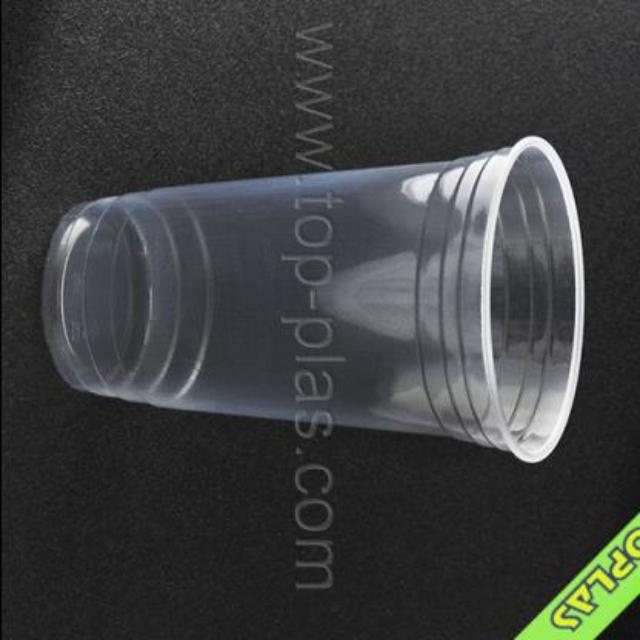plastic_box: (47, 137, 585, 461)
